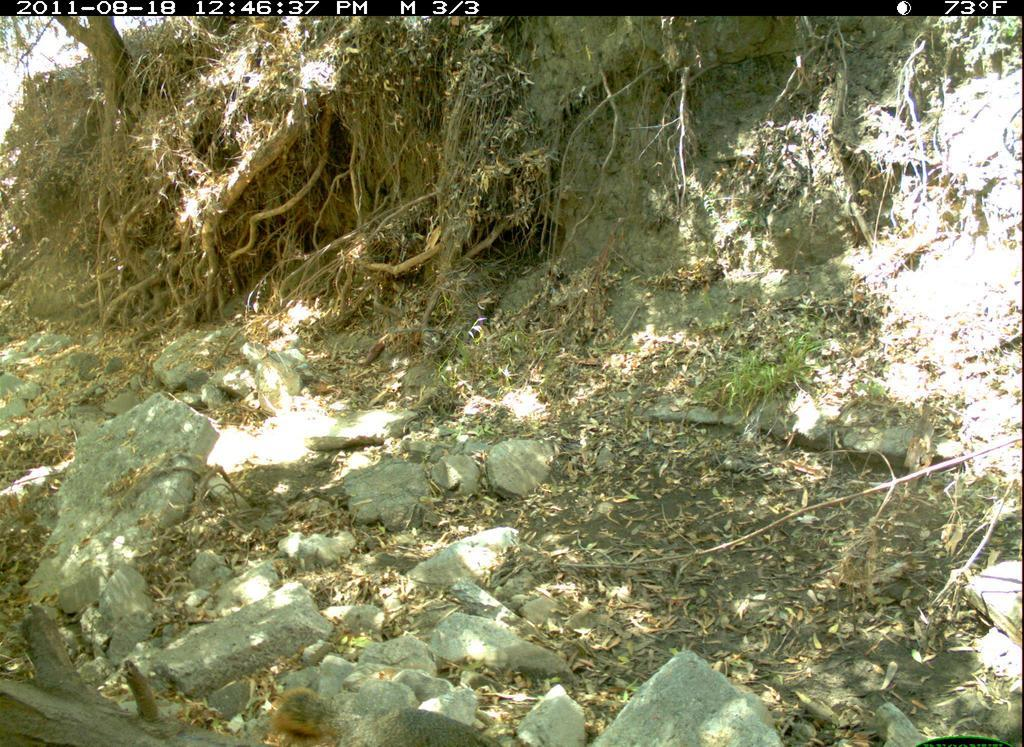squirrel: (251, 671, 420, 743)
